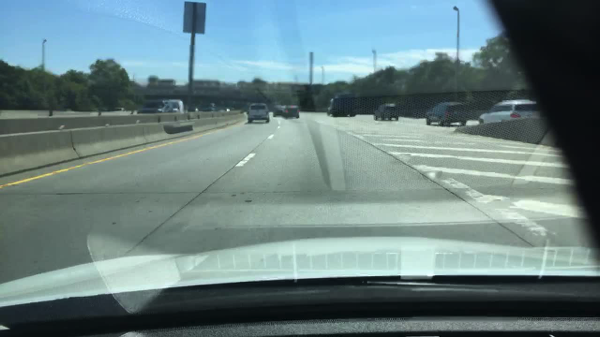car: (478, 99, 542, 125), (425, 103, 467, 126), (246, 103, 270, 123), (373, 103, 399, 120), (136, 101, 169, 114), (284, 105, 299, 119), (272, 105, 285, 118), (169, 101, 184, 112), (188, 107, 199, 113), (204, 107, 215, 112), (221, 108, 230, 113)
traffic sign: (184, 2, 206, 34)
truck: (328, 96, 356, 116)
